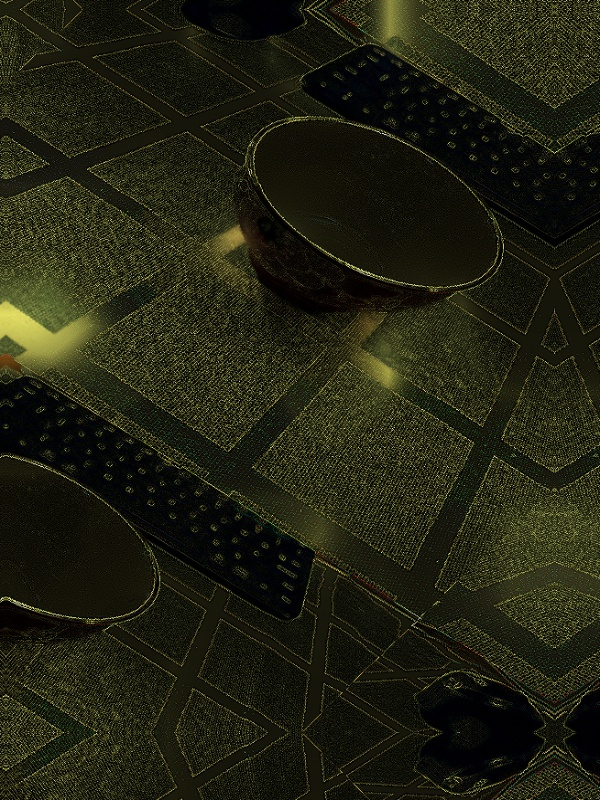bowl_small: (153, 72, 550, 376)
